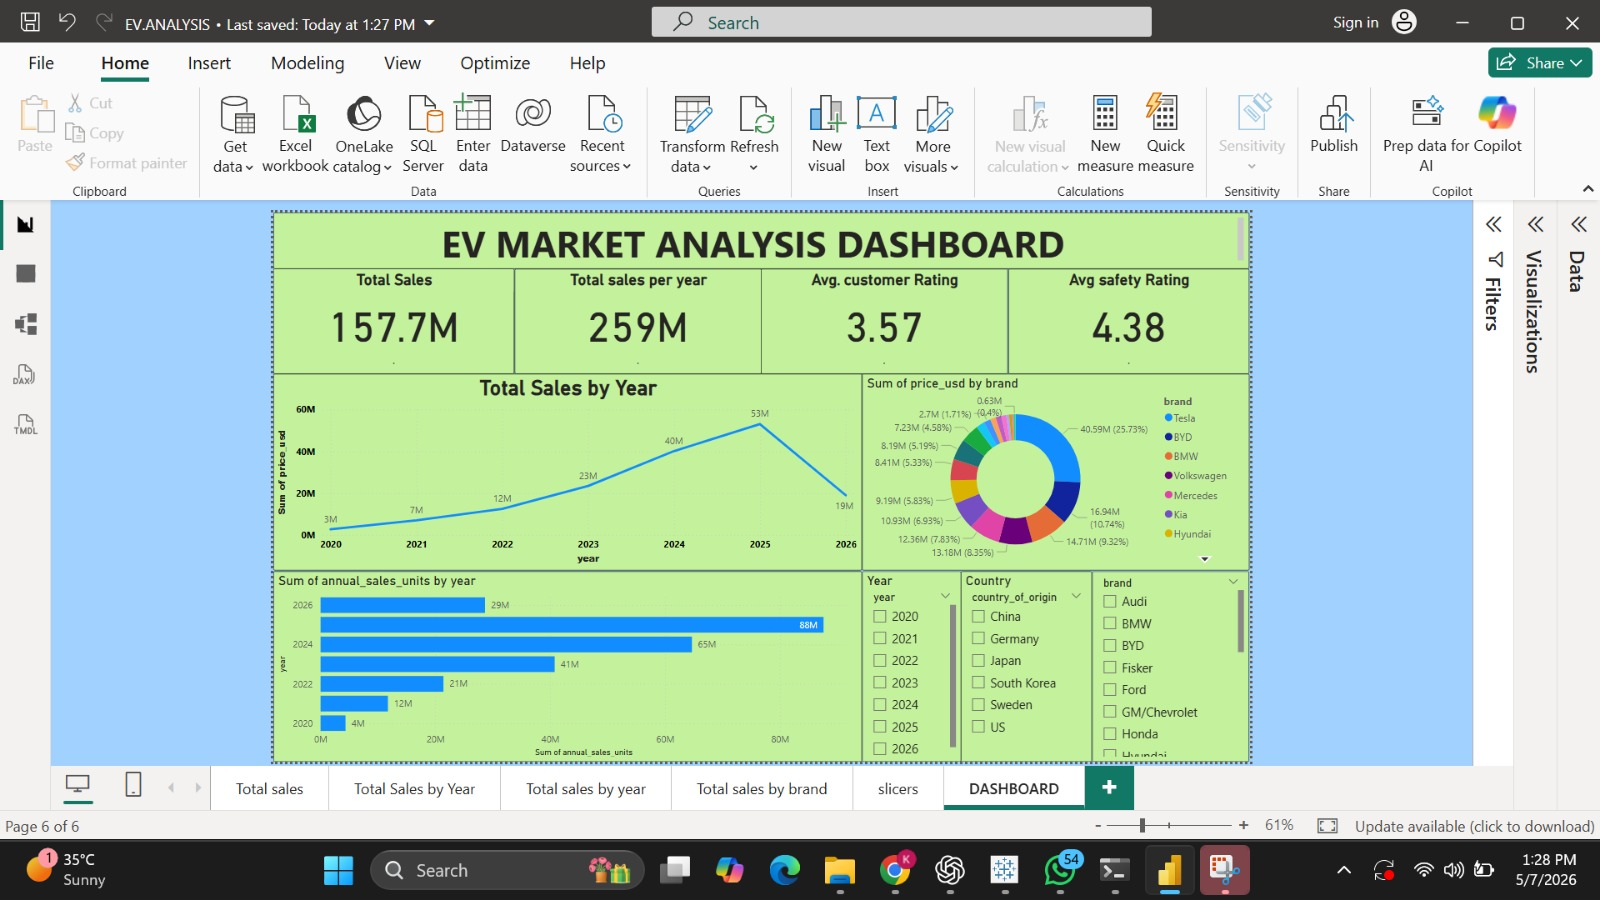

What the dashboard file says about the page in this screenshot:
{"tool":"powerbi","page":{"name":"DASHBOARD","canvas":[1280,720],"ordinal":5},"visuals":[{"type":"card","title":"Total Sales","fields":{"Values":["Sum(clean_ev_data.price_usd)"]},"box":[0,74,316,138],"z":0},{"type":"textbox","box":[0,0,1280,74],"z":1000},{"type":"card","title":"Total sales per year ","fields":{"Values":["Sum(clean_ev_data.annual_sales_units)"]},"box":[316,74,324,138],"z":2000},{"type":"card","title":"Avg. customer Rating","fields":{"Values":["Avg(clean_ev_data.customer_rating)"]},"box":[640,74,324,138],"z":3000},{"type":"card","title":"Avg safety Rating","fields":{"Values":["Avg(clean_ev_data.safety_rating)"]},"box":[964,74,316,138],"z":4000},{"type":"lineChart","title":"Total Sales by Year","fields":{"Y":["Sum(clean_ev_data.price_usd)"],"Category":["clean_ev_data.year"]},"box":[0,212,772,258],"z":5000},{"type":"clusteredBarChart","fields":{"Category":["clean_ev_data.year"],"Y":["Sum(clean_ev_data.annual_sales_units)"]},"box":[0,470,772,250],"z":6000},{"type":"donutChart","fields":{"Category":["clean_ev_data.brand"],"Y":["Sum(clean_ev_data.price_usd)"]},"box":[772,212,508,258],"z":7000},{"type":"slicer","title":"Year","fields":{"Values":["clean_ev_data.year"]},"box":[772,470,130,250],"z":8000},{"type":"slicer","title":"Country","fields":{"Values":["clean_ev_data.country_of_origin"]},"box":[902,470,172,250],"z":9000},{"type":"slicer","fields":{"Values":["clean_ev_data.brand"]},"box":[1074,470,206,250],"z":10000}]}

Visuals, with their boxes on the page's 1280x720 design canvas (x1, y1, x2, y2). These are canvas units, not pixel positions in the 1600x900 screenshot, which may show the page scaled, cropped or inside an application window:
"Total Sales" card: pyautogui.locateOnScreen(0, 74, 316, 212)
textbox: pyautogui.locateOnScreen(0, 0, 1280, 74)
"Total sales per year " card: pyautogui.locateOnScreen(316, 74, 640, 212)
"Avg. customer Rating" card: pyautogui.locateOnScreen(640, 74, 964, 212)
"Avg safety Rating" card: pyautogui.locateOnScreen(964, 74, 1280, 212)
"Total Sales by Year" lineChart: pyautogui.locateOnScreen(0, 212, 772, 470)
clusteredBarChart - clean_ev_data.year x Sum(clean_ev_data.annual_sales_units): pyautogui.locateOnScreen(0, 470, 772, 720)
donutChart - clean_ev_data.brand x Sum(clean_ev_data.price_usd): pyautogui.locateOnScreen(772, 212, 1280, 470)
"Year" slicer: pyautogui.locateOnScreen(772, 470, 902, 720)
"Country" slicer: pyautogui.locateOnScreen(902, 470, 1074, 720)
slicer - clean_ev_data.brand: pyautogui.locateOnScreen(1074, 470, 1280, 720)
